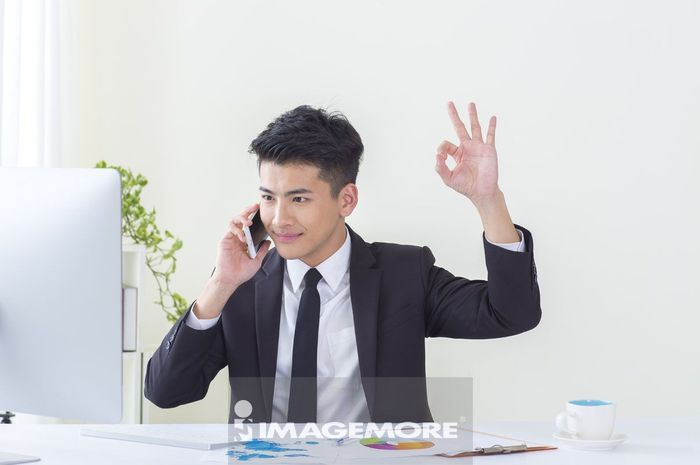talk: (208, 181, 328, 282)
